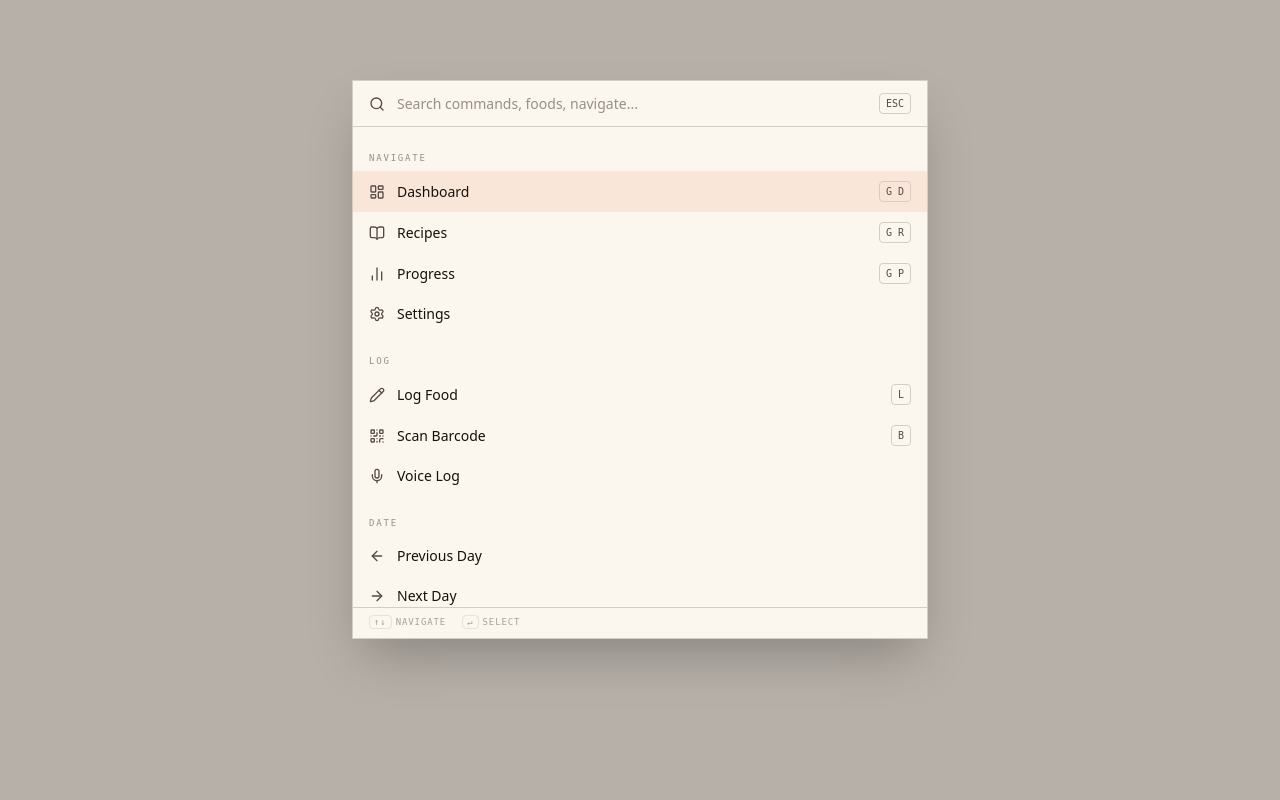
Test case: CommandPalette › search filtering › clear button resets query
Type "dash" into the search field at (632, 104), box [397,94,867,114]
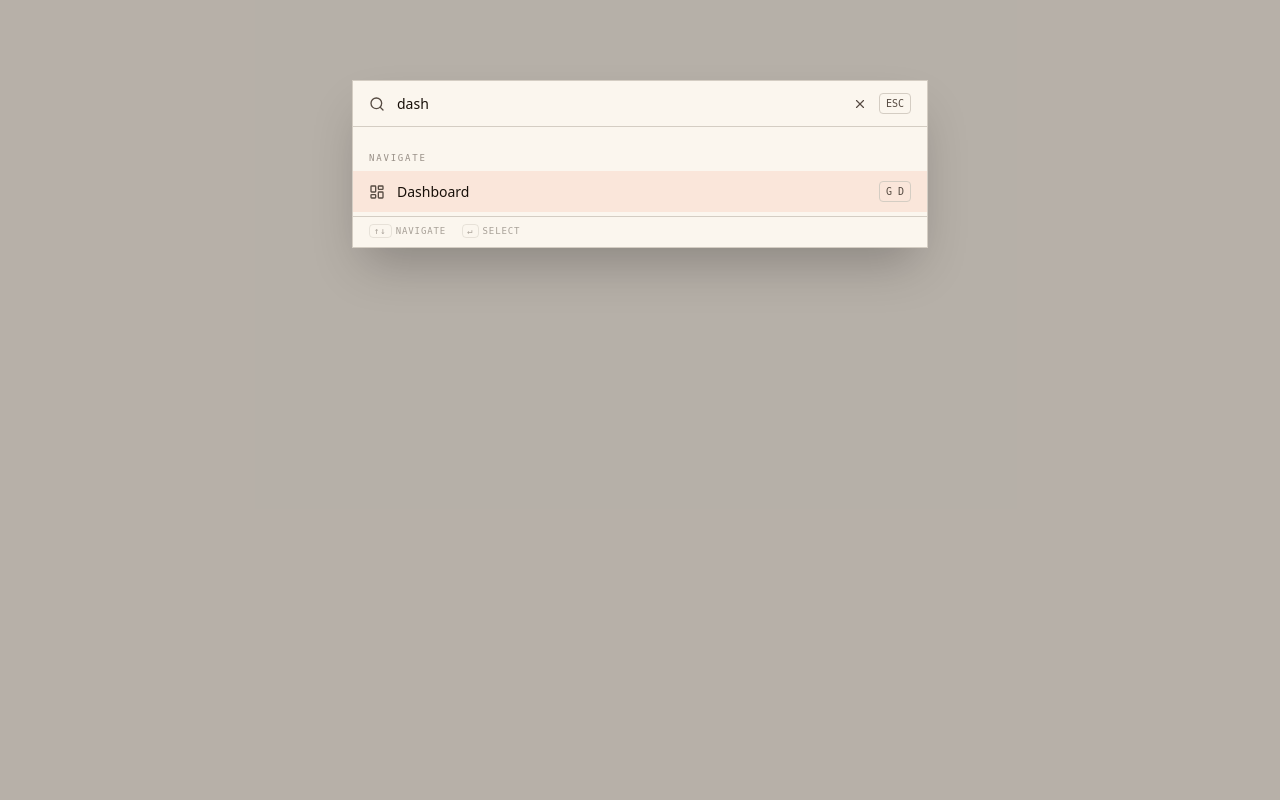
Click the button named "clear search" at (860, 104), box [853,96,867,110]
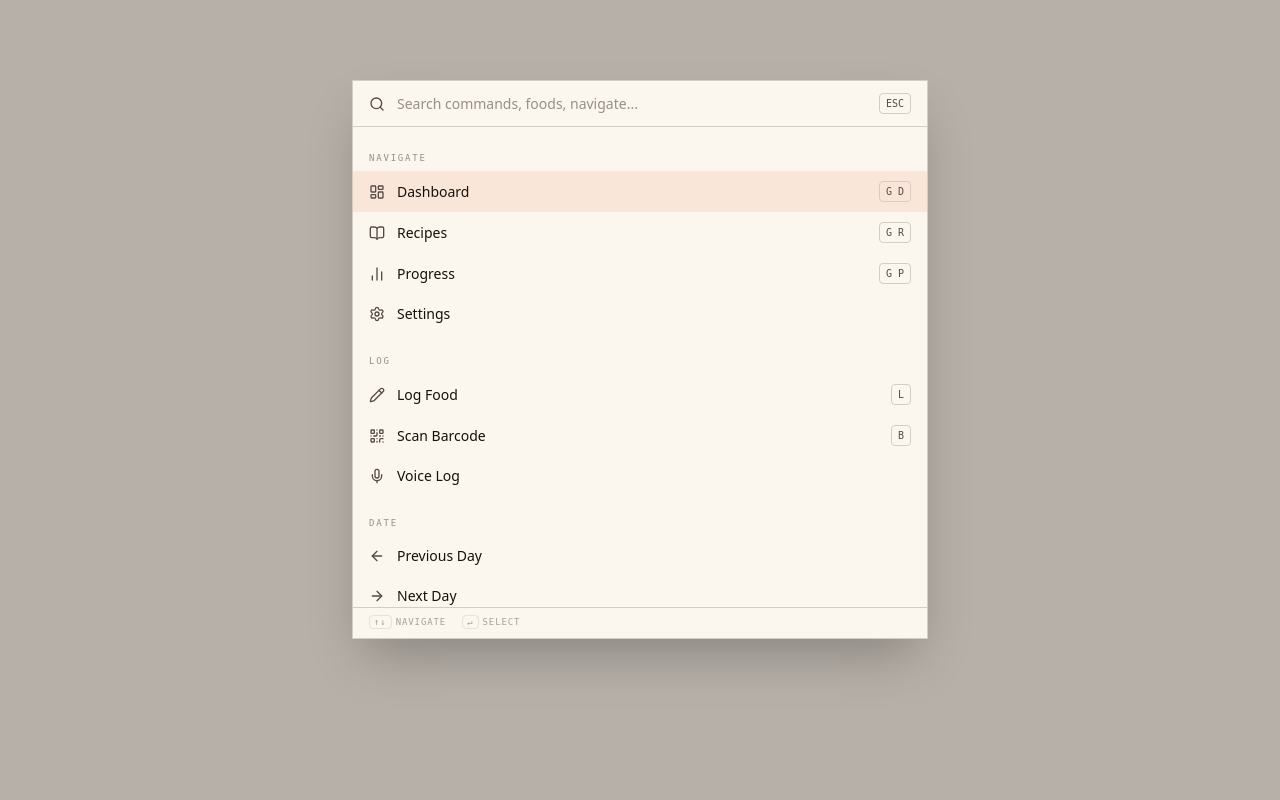
expect the search field is empty: met, box [397,94,867,114]
